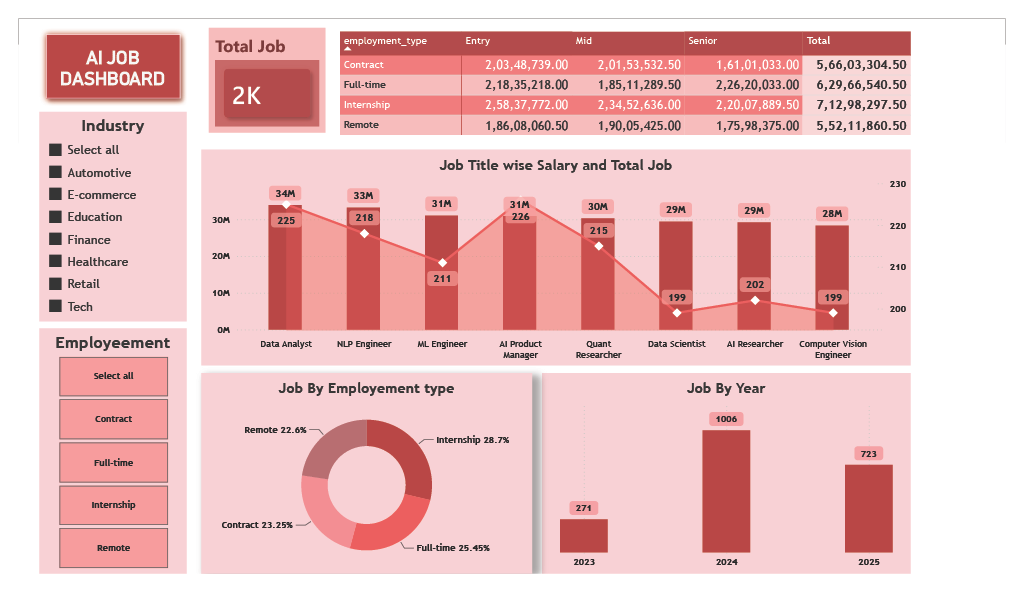

The dashboard page shown, as its layout file describes it:
{"tool":"powerbi","page":{"name":"Page 1","canvas":[1280,720],"ordinal":0},"visuals":[{"type":"slicer","title":"Industry","fields":{"Values":["ai_job_market (1).industry"]},"box":[26.8,121.4,191.4,271.6],"z":0},{"type":"slicer","title":"Employeement","fields":{"Values":["ai_job_market (1).employment_type"]},"box":[26.8,402.3,191.4,317.9],"z":1000},{"type":"cardVisual","title":"Total Job","fields":{"Data":["Count(ai_job_market (1).job_id)"]},"box":[246.9,12.3,151.3,135.8],"z":2000},{"type":"columnChart","title":"Job By Year","fields":{"Category":["ai_job_market (1).posted_date.Variation.Date Hierarchy.Year"],"Y":["CountNonNull(ai_job_market (1).job_title)"]},"box":[679.1,459.9,477.4,260.3],"z":3000},{"type":"donutChart","title":"Job By Employement type","fields":{"Category":["ai_job_market (1).employment_type"],"Y":["Count(ai_job_market (1).job_id)"]},"box":[236.7,459.9,429.1,260.3],"z":4000},{"type":"lineClusteredColumnComboChart","title":"Job Title wise Salary and Total Job","fields":{"Category":["ai_job_market (1).job_title"],"Y":["Sum(ai_job_market (1).avg_dalary)"],"Y2":["Count(ai_job_market (1).posted_date)"]},"box":[236.7,169.8,919.9,279.9],"z":5000},{"type":"pivotTable","fields":{"Columns":["ai_job_market (1).experience_level"],"Rows":["ai_job_market (1).employment_type"],"Values":["Sum(ai_job_market (1).avg_dalary)"]},"box":[411.6,12.3,771.7,157.4],"z":6000},{"type":"shape","box":[26.8,12.3,191.4,100.8],"z":7000}]}

Visuals, with their boxes in screenshot pixels (x1, y1, x2, y2), scaled from the page's 1280x720 canvas onto the 1024x592 screenshot:
"Industry" slicer: rect(21, 100, 175, 323)
"Employeement" slicer: rect(21, 331, 175, 591)
"Total Job" cardVisual: rect(198, 10, 319, 122)
"Job By Year" columnChart: rect(543, 378, 925, 591)
"Job By Employement type" donutChart: rect(189, 378, 533, 591)
"Job Title wise Salary and Total Job" lineClusteredColumnComboChart: rect(189, 140, 925, 370)
pivotTable - ai_job_market (1).experience_level x ai_job_market (1).employment_type: rect(329, 10, 947, 140)
shape: rect(21, 10, 175, 93)
